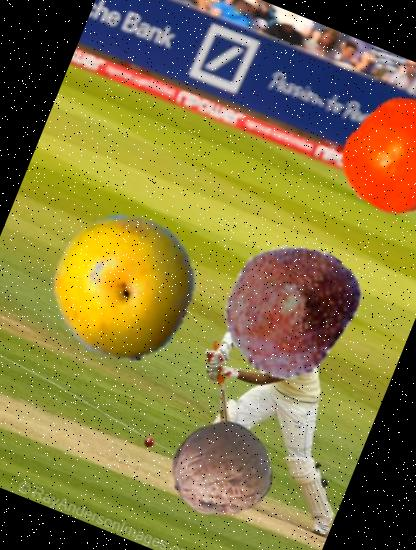Clementine: (323, 78, 416, 234)
Maracuja: (29, 193, 220, 384)
Salak: (198, 218, 376, 396)
Walnut: (155, 404, 286, 535)
